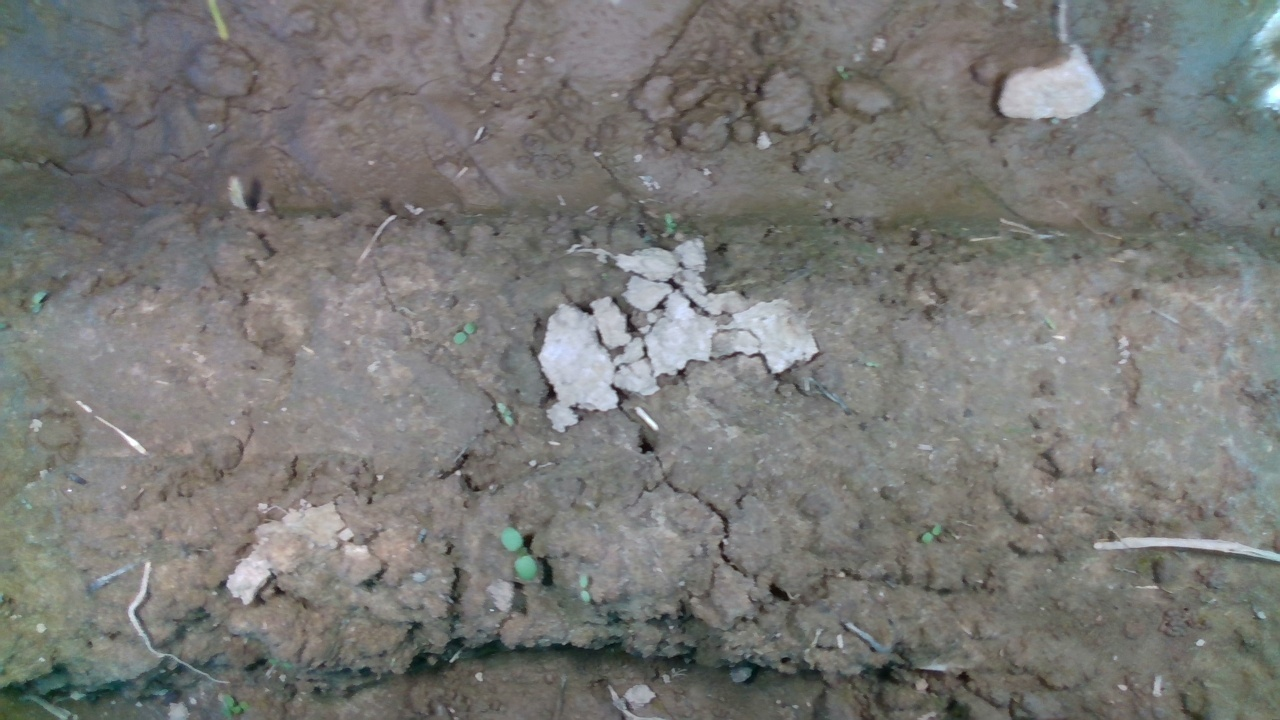weed: (452, 317, 481, 349), (572, 567, 594, 604), (922, 518, 940, 551)
